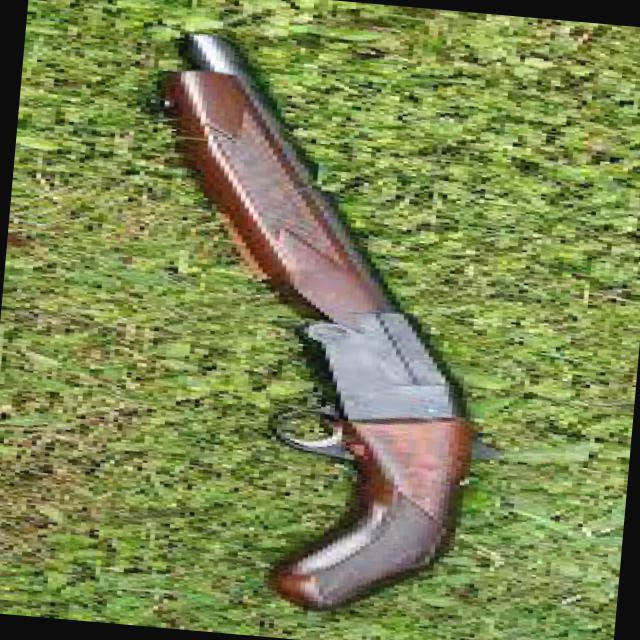long weapon: (122, 26, 529, 607)
